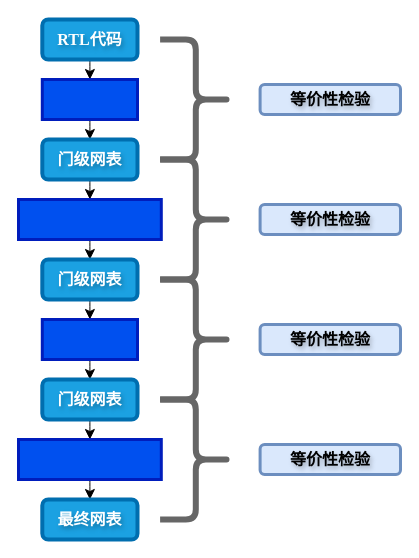
The diagram is 419 pixels wide and 558 high, and some of its shapes have lost their labels. The centre of each missing label's shape, as x and y in pixels:
"工程命令变更 ECO" goes at point 89,459.
"布局布线" goes at point 89,339.
"时钟树、 DFT 插入" goes at point 89,219.
"逻辑综合" goes at point 89,99.
